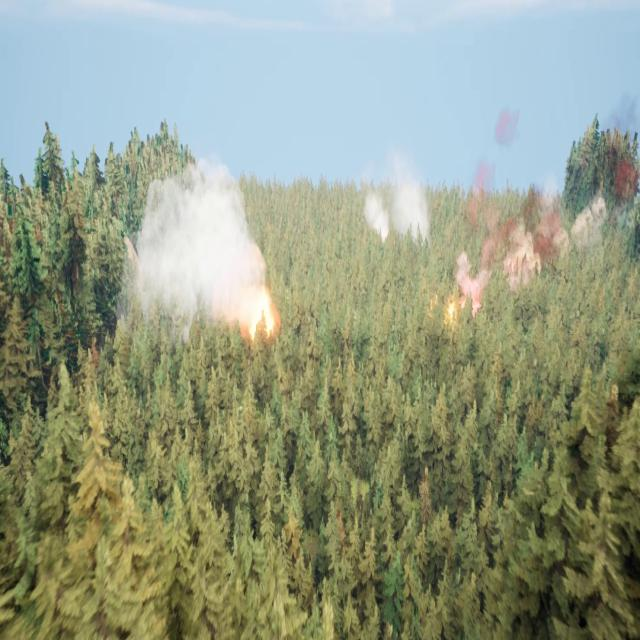fire: (239, 284, 277, 342)
smoke: (445, 90, 570, 320), (120, 157, 268, 337), (365, 152, 429, 258)
